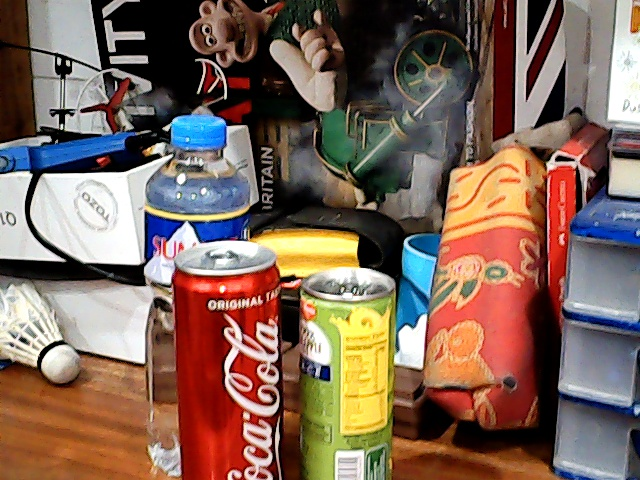Cola: (171, 234, 292, 480)
Pine Juice: (285, 255, 418, 480)
Summit Water: (122, 106, 254, 251)
